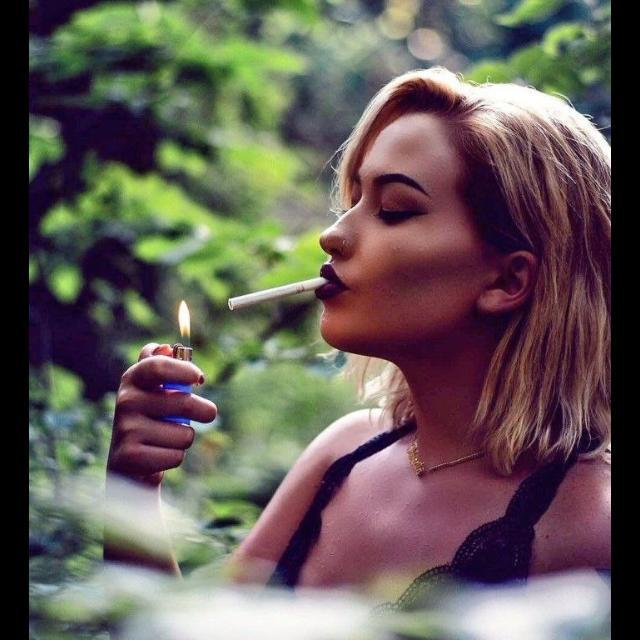rokok: (224, 272, 328, 316)
